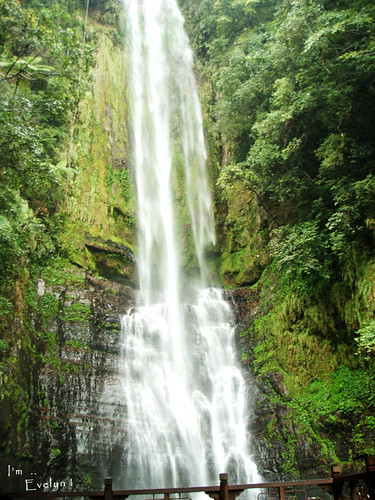wufengciWaterfall: (86, 2, 298, 485)
